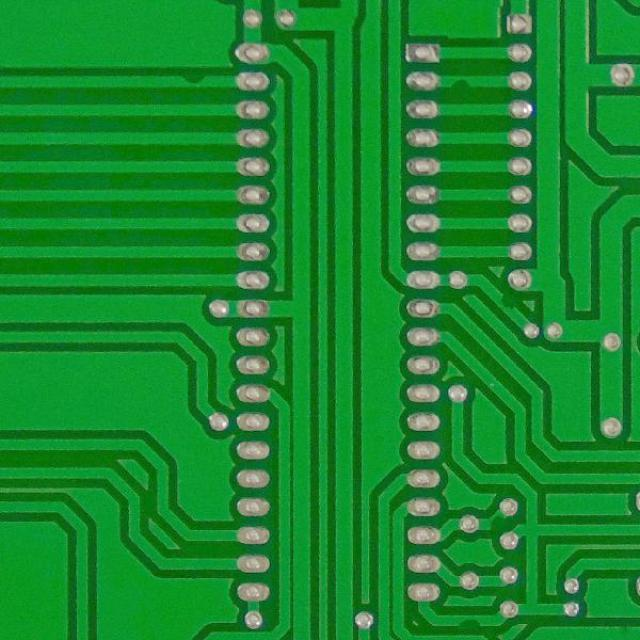MouseBite: (175, 70, 211, 92), (446, 70, 478, 92), (454, 612, 486, 632), (495, 291, 518, 316), (483, 511, 511, 531)
